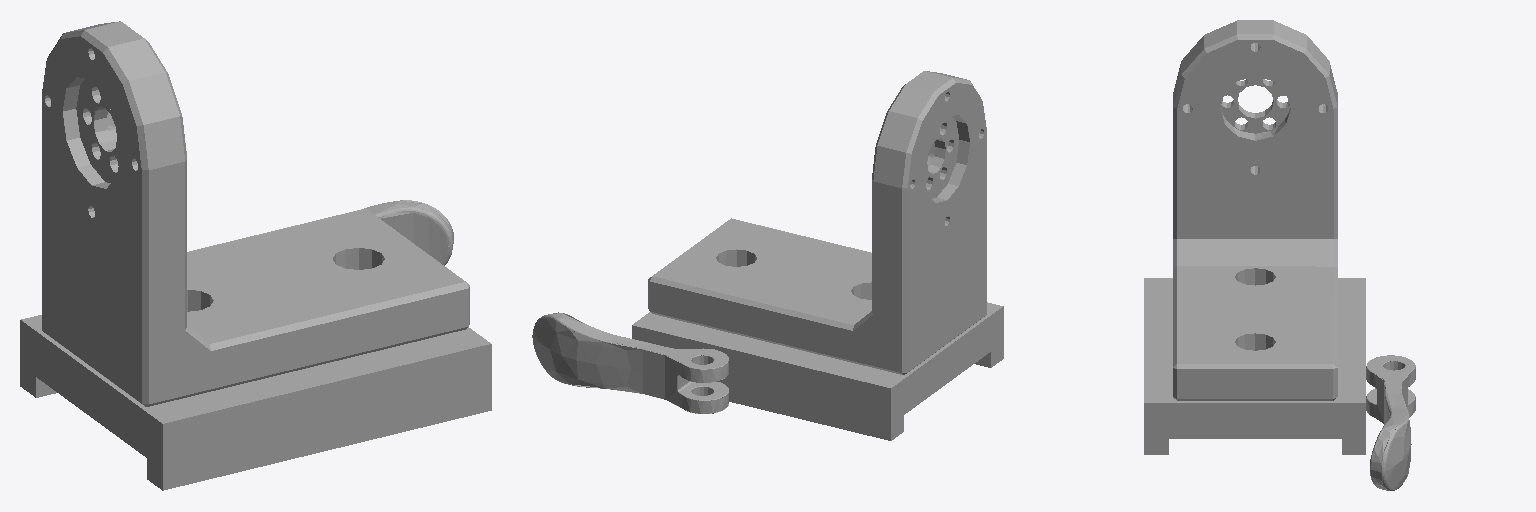
robot.urdf — dyros_avatar_haptic:
<?xml version="1.0" ?>
<robot name="dyros_avatar_haptic">

<mujoco>
      <compiler 
      meshdir="../meshes/" 
      balanceinertia="true" 
      discardvisual="false" />
</mujoco>

<material name="silver">
  <color rgba="0.700 0.700 0.700 1.000"/>
</material>

<link name="base_link">
</link>

<joint name="base_footprint_joint" type="fixed">
  <origin rpy="0 0 0" xyz="0 0.5 0"/>
  <parent link="base_link"/>
  <child link="L0v1_1"/>
</joint>

<link name="L0v1_1">
  <inertial>
    <origin xyz="-0.05397161611301562 -0.036321160852863264 0.46986294658671396" rpy="0 0 0"/>
    <mass value="83.96706134148887"/>
    <inertia ixx="24.453447" iyy="25.002911" izz="1.749241" ixy="0.350866" iyz="0.742595" ixz="-1.055886"/>
  </inertial>
  <visual>
    <origin xyz="0 0 0" rpy="0 0 0"/>
    <geometry>
      <mesh filename="package://dyros_avatar_haptic_description/meshes/L0v1_1.stl" scale="0.001 0.001 0.001"/>
    </geometry>
    <material name="silver"/>
  </visual>
  <collision>
    <origin xyz="0 0 0" rpy="0 0 0"/>
    <geometry>
      <mesh filename="package://dyros_avatar_haptic_description/meshes/L0v1_1.stl" scale="0.001 0.001 0.001"/>
    </geometry>
  </collision>
</link>

<link name="L1v4_1">
  <inertial>
    <origin xyz="0.07414968503896087 -0.057367037851181454 0.1044503172259923" rpy="0 0 0"/>
    <mass value="9.311307466586474"/>
    <inertia ixx="0.150532" iyy="0.213922" izz="0.0834" ixy="0.006379" iyz="0.007141" ixz="-0.068315"/>
  </inertial>
  <visual>
    <origin xyz="3.0000000002416984e-06 -1.509903313490213e-16 -0.478700000000001" rpy="0 0 0"/>
    <geometry>
      <mesh filename="package://dyros_avatar_haptic_description/meshes/L1v4_1.stl" scale="0.001 0.001 0.001"/>
    </geometry>
    <material name="silver"/>
  </visual>
  <collision>
    <origin xyz="3.0000000002416984e-06 -1.509903313490213e-16 -0.478700000000001" rpy="0 0 0"/>
    <geometry>
      <mesh filename="package://dyros_avatar_haptic_description/meshes/L1v4_1.stl" scale="0.001 0.001 0.001"/>
    </geometry>
  </collision>
</link>

<link name="L2v2_1">
  <inertial>
    <origin xyz="0.24316316198770976 0.042142326269775716 0.003159068382556529" rpy="0 0 0"/>
    <mass value="3.6056700794408694"/>
    <inertia ixx="0.005209" iyy="0.041973" izz="0.040938" ixy="-0.002441" iyz="0.000154" ixz="-0.000307"/>
  </inertial>
  <visual>
    <origin xyz="-0.25846673727088915 0.0642219192730756 -0.7550000000000004" rpy="0 0 0"/>
    <geometry>
      <mesh filename="package://dyros_avatar_haptic_description/meshes/L2_Newv4_1.stl" scale="0.001 0.001 0.001"/>
    </geometry>
    <material name="silver"/>
  </visual>
  <collision>
    <origin xyz="-0.25846673727088915 0.0642219192730756 -0.7550000000000004" rpy="0 0 0"/>
    <geometry>
      <mesh filename="package://dyros_avatar_haptic_description/meshes/L2_Newv4_1.stl" scale="0.001 0.001 0.001"/>
    </geometry>
  </collision>
</link>

<link name="L3v2_1">
  <inertial>
    <origin xyz="0.20448824109939912 -0.1276110108524803 0.020663262416985573" rpy="0 0 0"/>
    <mass value="2.262098039986338"/>
    <inertia ixx="0.016693" iyy="0.016936" izz="0.030628" ixy="0.012648" iyz="0.000918" ixz="-0.000652"/>
  </inertial>
  <visual>
    <origin xyz="-0.6055829237607285 0.0193856381856442 -0.8095000000000006" rpy="0 0 0"/>
    <geometry>
      <mesh filename="package://dyros_avatar_haptic_description/meshes/L3_Newv3_1.stl" scale="0.001 0.001 0.001"/>
    </geometry>
    <material name="silver"/>
  </visual>
  <collision>
    <origin xyz="-0.6055829237607285 0.0193856381856442 -0.8095000000000006" rpy="0 0 0"/>
    <geometry>
      <mesh filename="package://dyros_avatar_haptic_description/meshes/L3_Newv3_1.stl" scale="0.001 0.001 0.001"/>
    </geometry>
  </collision>
</link>

<link name="L4v5_1">
  <inertial>
    <origin xyz="0.07269274062841957 0.17106995394703692 -0.33156342884810547" rpy="0 0 0"/>
    <mass value="2.6616567255115777"/>
    <inertia ixx="0.427739" iyy="0.432239" izz="0.083245" ixy="-0.037928" iyz="0.117121" ixz="0.125705"/>
  </inertial>
  <visual>
    <origin xyz="-0.8550954014206132 0.20500334610174079 -0.7992" rpy="0 0 0"/>
    <geometry>
      <mesh filename="package://dyros_avatar_haptic_description/meshes/L4v5_1.stl" scale="0.001 0.001 0.001"/>
    </geometry>
    <material name="silver"/>
  </visual>
  <collision>
    <origin xyz="-0.8550954014206132 0.20500334610174079 -0.7992" rpy="0 0 0"/>
    <geometry>
      <mesh filename="package://dyros_avatar_haptic_description/meshes/L4v5_1.stl" scale="0.001 0.001 0.001"/>
    </geometry>
  </collision>
</link>

<link name="L5v6_1">
  <inertial>
    <origin xyz="0.003958522212349602 -0.0718400882483142 0.012391219361366779" rpy="0 0 0"/>
    <mass value="1.6499764908897157"/>
    <inertia ixx="0.003238" iyy="0.002993" izz="0.003259" ixy="0.000102" iyz="-0.000531" ixz="8.8e-05"/>
  </inertial>
  <visual>
    <origin xyz="-0.8551368021558099 0.11722835586546054 -0.6431250000000004" rpy="0 0 0"/>
    <geometry>
      <mesh filename="package://dyros_avatar_haptic_description/meshes/L5v6_1.stl" scale="0.001 0.001 0.001"/>
    </geometry>
    <material name="silver"/>
  </visual>
  <collision>
    <origin xyz="-0.8551368021558099 0.11722835586546054 -0.6431250000000004" rpy="0 0 0"/>
    <geometry>
      <mesh filename="package://dyros_avatar_haptic_description/meshes/L5v6_1.stl" scale="0.001 0.001 0.001"/>
    </geometry>
  </collision>
</link>

<link name="EE">
  <inertial>
    <origin xyz="0.026595275136558016 0.006176913698148073 -0.04537670815316974" rpy="0 0 0"/>
    <mass value="0.29003290841142326"/>
    <inertia ixx="0.000186" iyy="0.000297" izz="0.000306" ixy="-6.2e-05" iyz="2.1e-05" ixz="7.3e-05"/>
  </inertial>
  <visual>
    <origin xyz="-0.8178956767681897 0.20441080008368115 -0.6431250000000176" rpy="0 0 0"/>
    <geometry>
      <mesh filename="package://dyros_avatar_haptic_description/meshes/L6v5_1.stl" scale="0.001 0.001 0.001"/>
    </geometry>
    <material name="silver"/>
  </visual>
  <collision>
    <origin xyz="-0.8178956767681897 0.20441080008368115 -0.6431250000000176" rpy="0 0 0"/>
    <geometry>
      <mesh filename="package://dyros_avatar_haptic_description/meshes/L6v5_1.stl" scale="0.001 0.001 0.001"/>
    </geometry>
  </collision>
</link>

<joint name="L_Rev1" type="prismatic">
  <origin xyz="-3.0000000002416984e-06 1.509903313490213e-16 0.478700000000001" rpy="0 0 0"/>
  <parent link="L0v1_1"/>
  <child link="L1v4_1"/>
  <axis xyz="0.0 0.0 1.0"/>
  <limit upper="3.14159" lower="-3.14159" effort="100" velocity="100"/>
</joint>

<joint name="L_Rev2" type="revolute">
  <origin xyz="0.2584697372708894 -0.06422191927307576 0.27629999999999943" rpy="0 0 0"/>
  <parent link="L1v4_1"/>
  <child link="L2v2_1"/>
  <axis xyz="0.0 0.0 -1.0"/>
  <limit upper="3.14159" lower="-3.14159" effort="100" velocity="100"/>
</joint>

<joint name="L_Rev3" type="revolute">
  <origin xyz="0.3471161864898394 0.0448362810874314 0.054500000000000104" rpy="0 0 0"/>
  <parent link="L2v2_1"/>
  <child link="L3v2_1"/>
  <axis xyz="0.0 0.0 -1.0"/>
  <limit upper="3.14159" lower="-3.14159" effort="100" velocity="100"/>
</joint>

<joint name="L_Rev4" type="revolute">
  <origin xyz="0.2495124776598847 -0.18561770791609658 -0.010300000000000531" rpy="0 0 0"/>
  <parent link="L3v2_1"/>
  <child link="L4v5_1"/>
  <axis xyz="0.0 0.0 1.0"/>
  <limit upper="3.14159" lower="-3.14159" effort="100" velocity="100"/>
</joint>

<joint name="L_Rev5" type="revolute">
  <origin xyz="4.140073519665055e-05 0.08777499023628024 -0.15607499999999963" rpy="0 0 0"/>
  <parent link="L4v5_1"/>
  <child link="L5v6_1"/>
  <axis xyz="0.0 1.0 0.0"/>
  <limit upper="3.14159" lower="-3.14159" effort="100" velocity="100"/>
</joint>

<joint name="L_Rev6" type="revolute">
  <origin xyz="-0.037241125387620144 -0.0871824442182206 1.7208456881689926e-14" rpy="0 0 0"/>
  <parent link="L5v6_1"/>
  <child link="EE"/>
  <axis xyz="1.0 0.0 0.0"/>
  <limit upper="3.14159" lower="-3.14159" effort="100" velocity="100"/>
</joint>

</robot>

--- Render facts (derived) ---
Views: 3 orthographic renders of the robot side by side, from view 1: azimuth 30°, elevation 25°; view 2: azimuth 150°, elevation 25°; view 3: azimuth 270°, elevation 25°.
Robot: dyros_avatar_haptic — 8 links, 7 joints (5 revolute, 1 prismatic, 1 fixed); root link base_link; default pose: every joint at zero.
Links seen in each view (by area): view 1: EE; view 2: EE; view 3: EE.
Boxes of the visible links, x1,y1,x2,y2 form: EE: [20, 21, 491, 490]; EE: [532, 71, 1003, 440]; EE: [1144, 20, 1415, 490].
Size in the robot's own frame: 0.0972 by 0.066 by 0.0848 metres.
Meshes: 7 distinct files referenced, 1 mesh visuals loaded (1 binary STL); not drawn: 6 (reference not matched to a file when rendering).